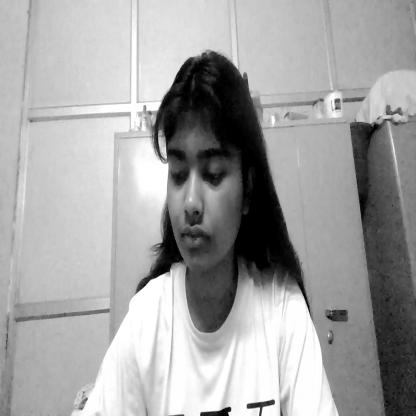Distracted: (156, 50, 258, 277)
